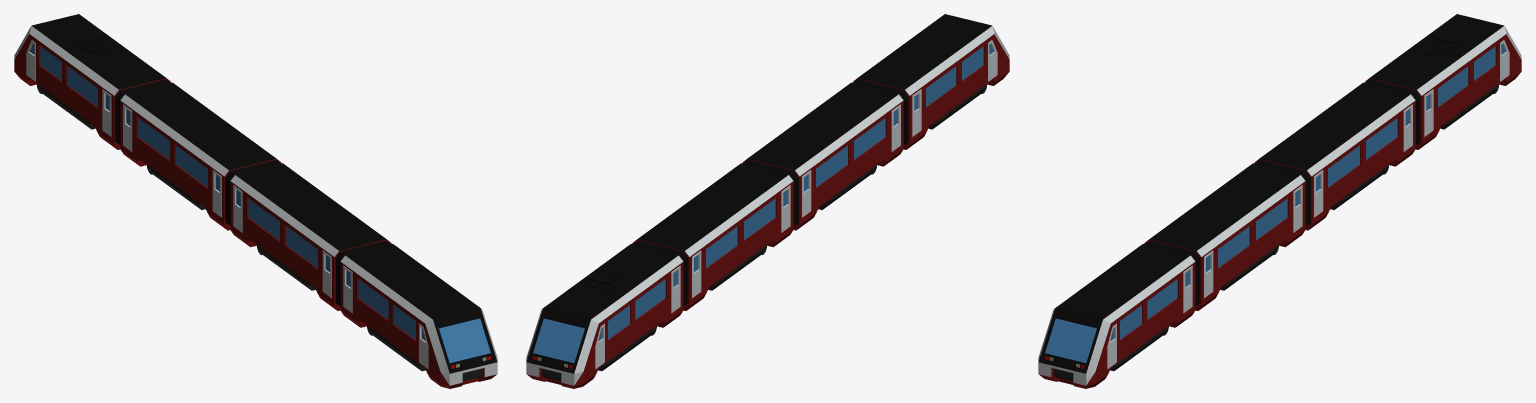
Rendered from train.obj.
The picture shows the model from 3 angles, left to right: view 1: azimuth 30°, elevation 25°; view 2: azimuth 150°, elevation 25°; view 3: azimuth 330°, elevation 25°; orthographic projection.
Visible parts, largest first — view 1: train_commuter_2.001_Cube.917; view 2: train_commuter_2.001_Cube.917; view 3: train_commuter_2.001_Cube.917.
Boxes of the visible parts, <box> form: train_commuter_2.001_Cube.917: <box>14,14,497,388</box>; train_commuter_2.001_Cube.917: <box>526,14,1009,388</box>; train_commuter_2.001_Cube.917: <box>1038,14,1521,388</box>.
Bounding box in the file's own units: 1.2 × 1.45 × 15.82.
